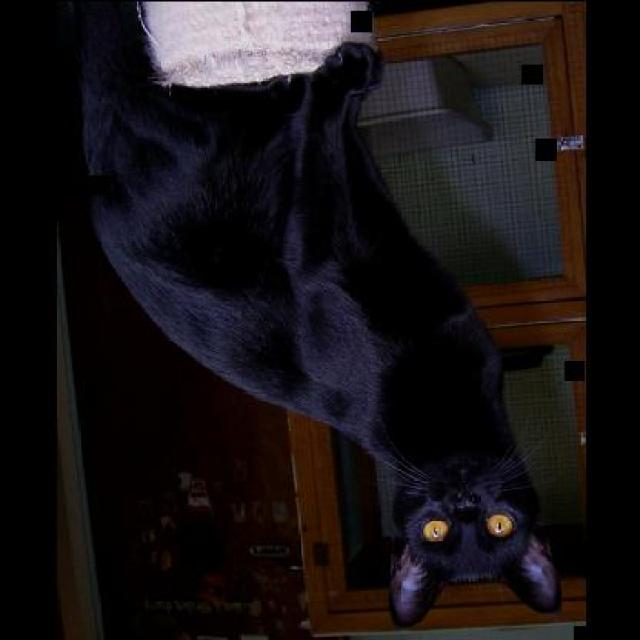unauthorized: (64, 0, 562, 628)
